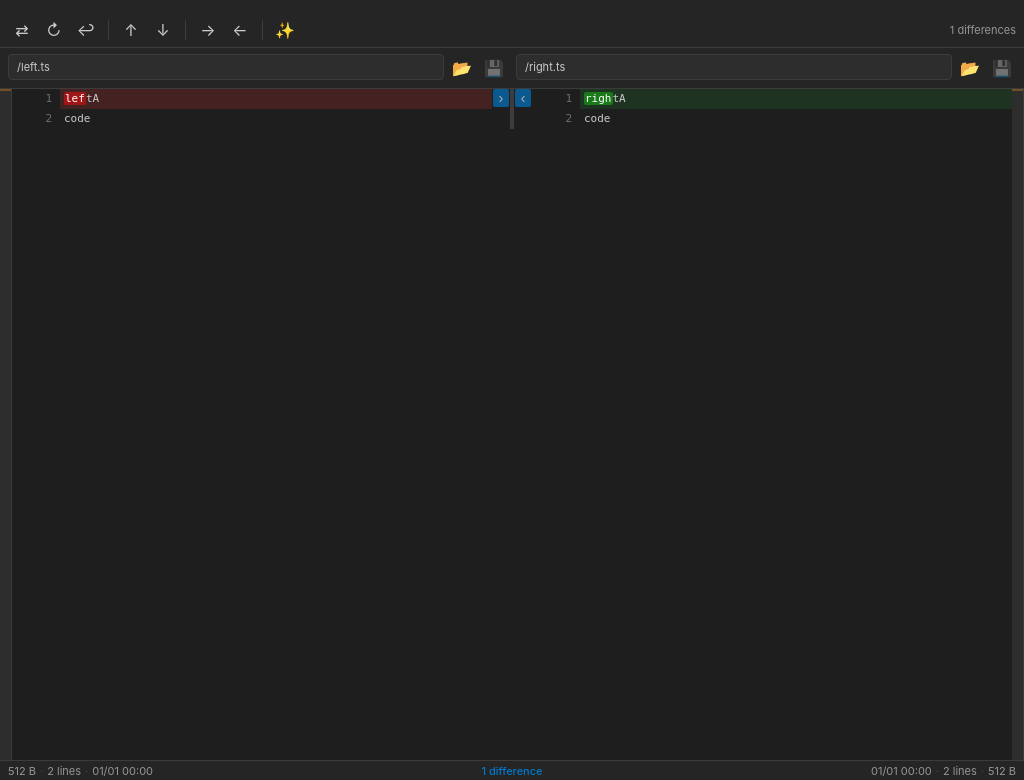
Test case: Copy selected rows (feature 5.5) › copy-selected-to-right button copies selected rows and clears selection
Expected: the element with class "fd-diff-modified" showing "1 leftA" is shown, [12, 89, 492, 109]
Note: Select the modified row
Click the text with class "fd-line-no" next to "lef" at (49, 98), box [45, 92, 52, 105]
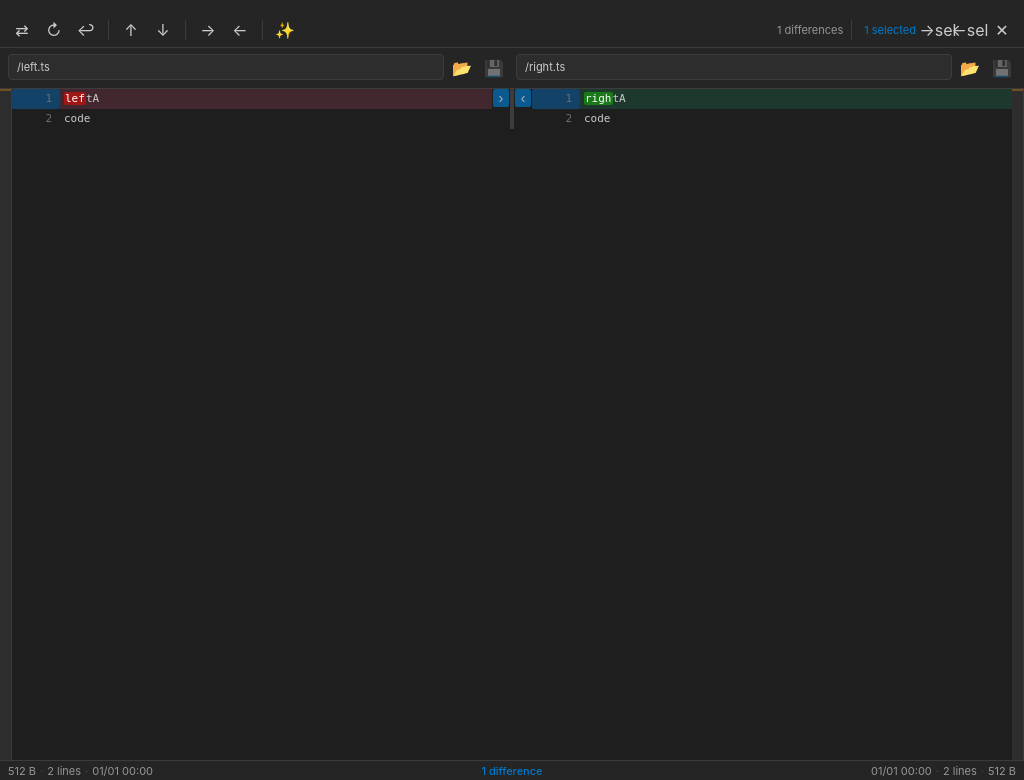
Result: the text "1 selected" is shown at [860, 22, 920, 36]
Note: Copy selected to right
Click the button "→sel" at (938, 30), box [924, 16, 952, 44]
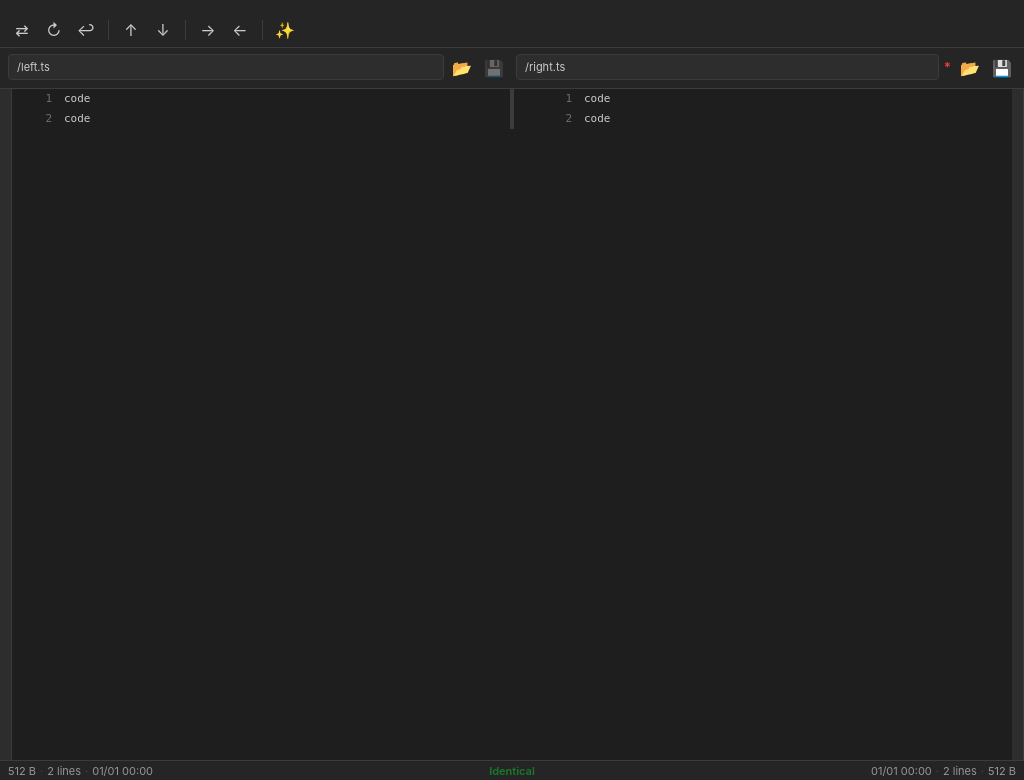
Result: the element with class "fd-diff-modified" is gone
Result: the element with class "fd-row-selected" is gone
